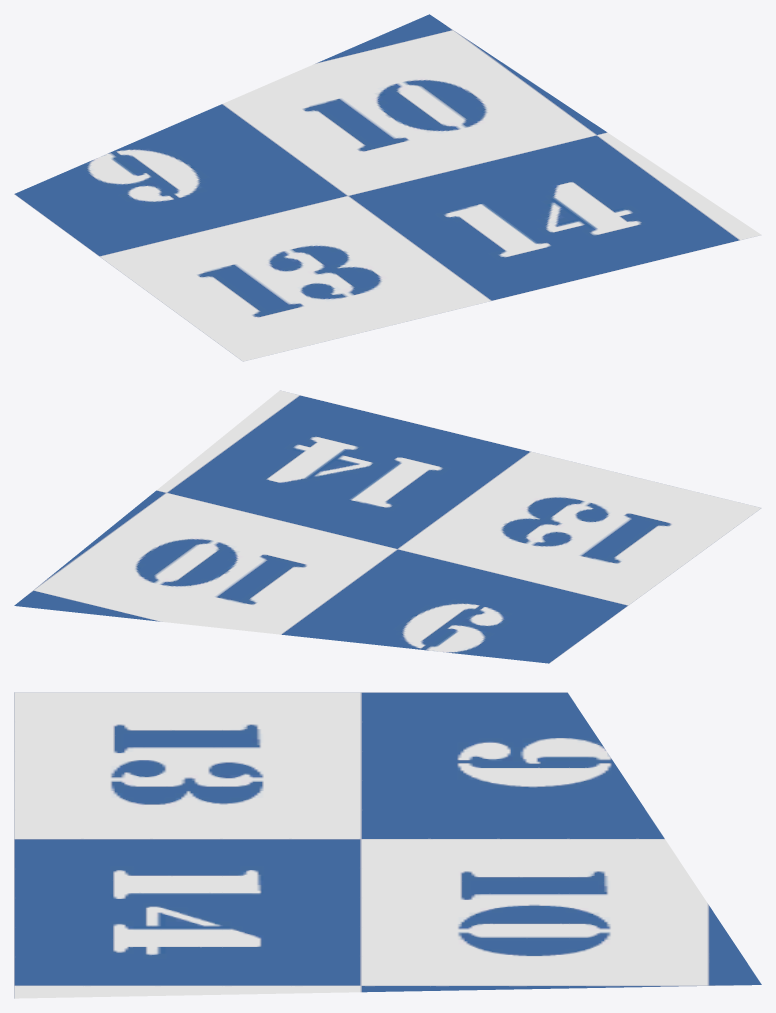
File: Rui_Fragment5.fbx
3 renders of one model, top to bottom at view 1: azimuth 30°, elevation 25°; view 2: azimuth 150°, elevation 25°; view 3: azimuth 270°, elevation 25°, orthographic. The views are drawn at different scales.
Visible parts, largest first — view 1: SM_e_Plc_P1007_Fragment005; view 2: SM_e_Plc_P1007_Fragment005; view 3: SM_e_Plc_P1007_Fragment005.
Part boxes in pixels (x1=…): SM_e_Plc_P1007_Fragment005: x1=14, y1=14, x2=761, y2=361; SM_e_Plc_P1007_Fragment005: x1=14, y1=390, x2=761, y2=663; SM_e_Plc_P1007_Fragment005: x1=14, y1=692, x2=761, y2=998.
Size of the model in its own units: 52.18 by 1.2e-14 by 53.87.
